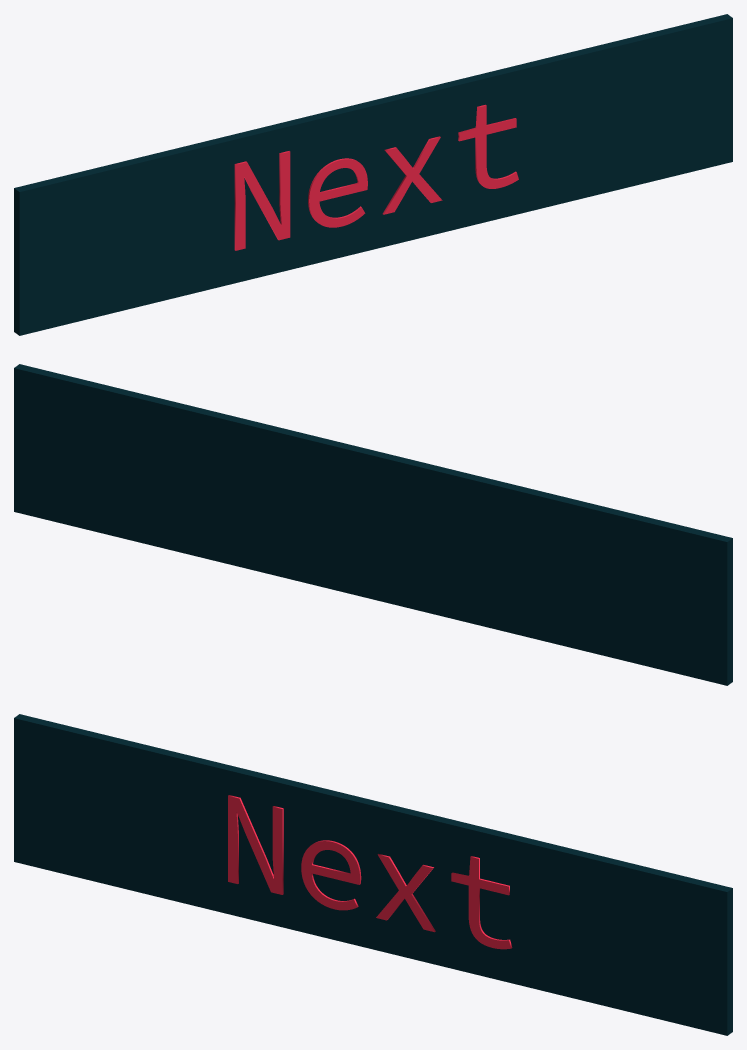
Rendered from button_next.glb.
3 views of the same model, one above another, from view 1: azimuth 30°, elevation 25°; view 2: azimuth 150°, elevation 25°; view 3: azimuth 330°, elevation 25° (orthographic).
Visible parts, largest first — view 1: Cube, Text; view 2: Cube; view 3: Cube, Text.
Part boxes in pixels (<box>): Cube: <box>14,14,732,335</box>; Text: <box>234,104,518,250</box>; Cube: <box>14,364,732,685</box>; Cube: <box>14,714,732,1035</box>; Text: <box>228,795,512,949</box>.
Bounding box in the file's own units: 3.69 × 0.7116 × 0.06.
